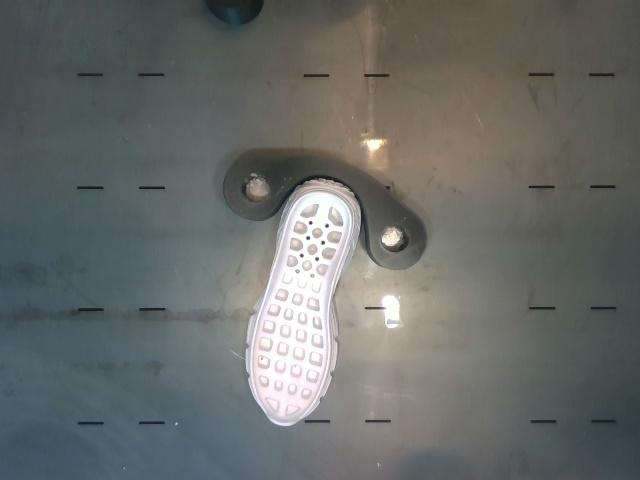shoes: (252, 193, 350, 425)
